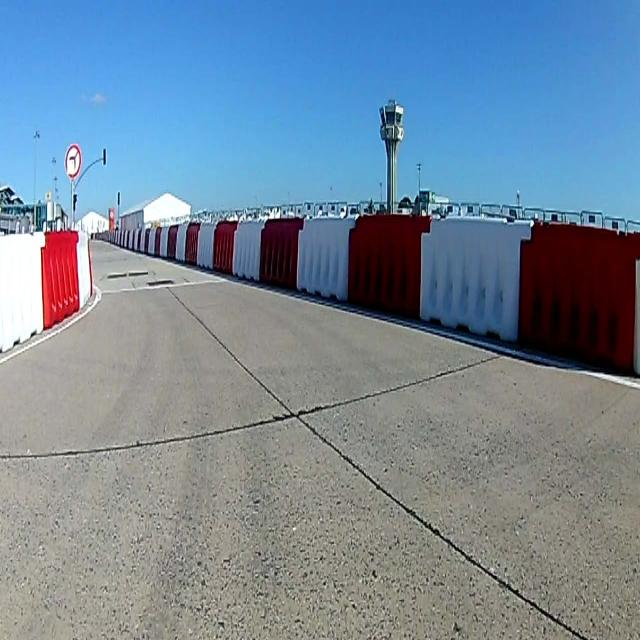soladonulmez: (64, 142, 83, 182)
